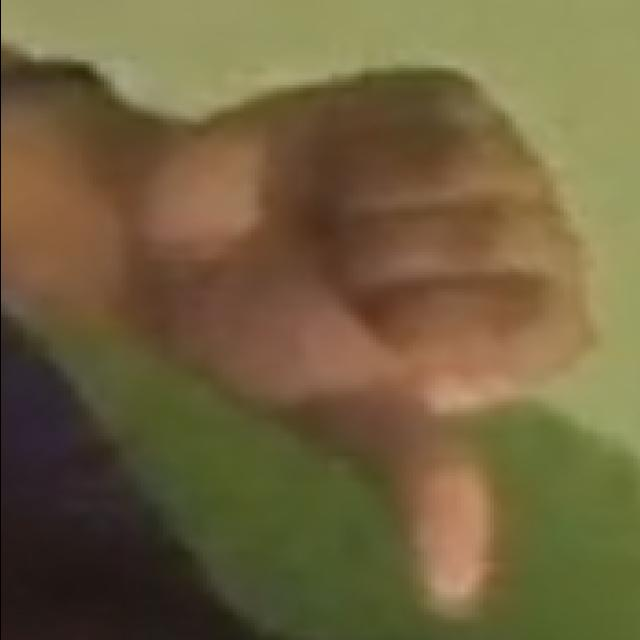A: (128, 57, 616, 612)
